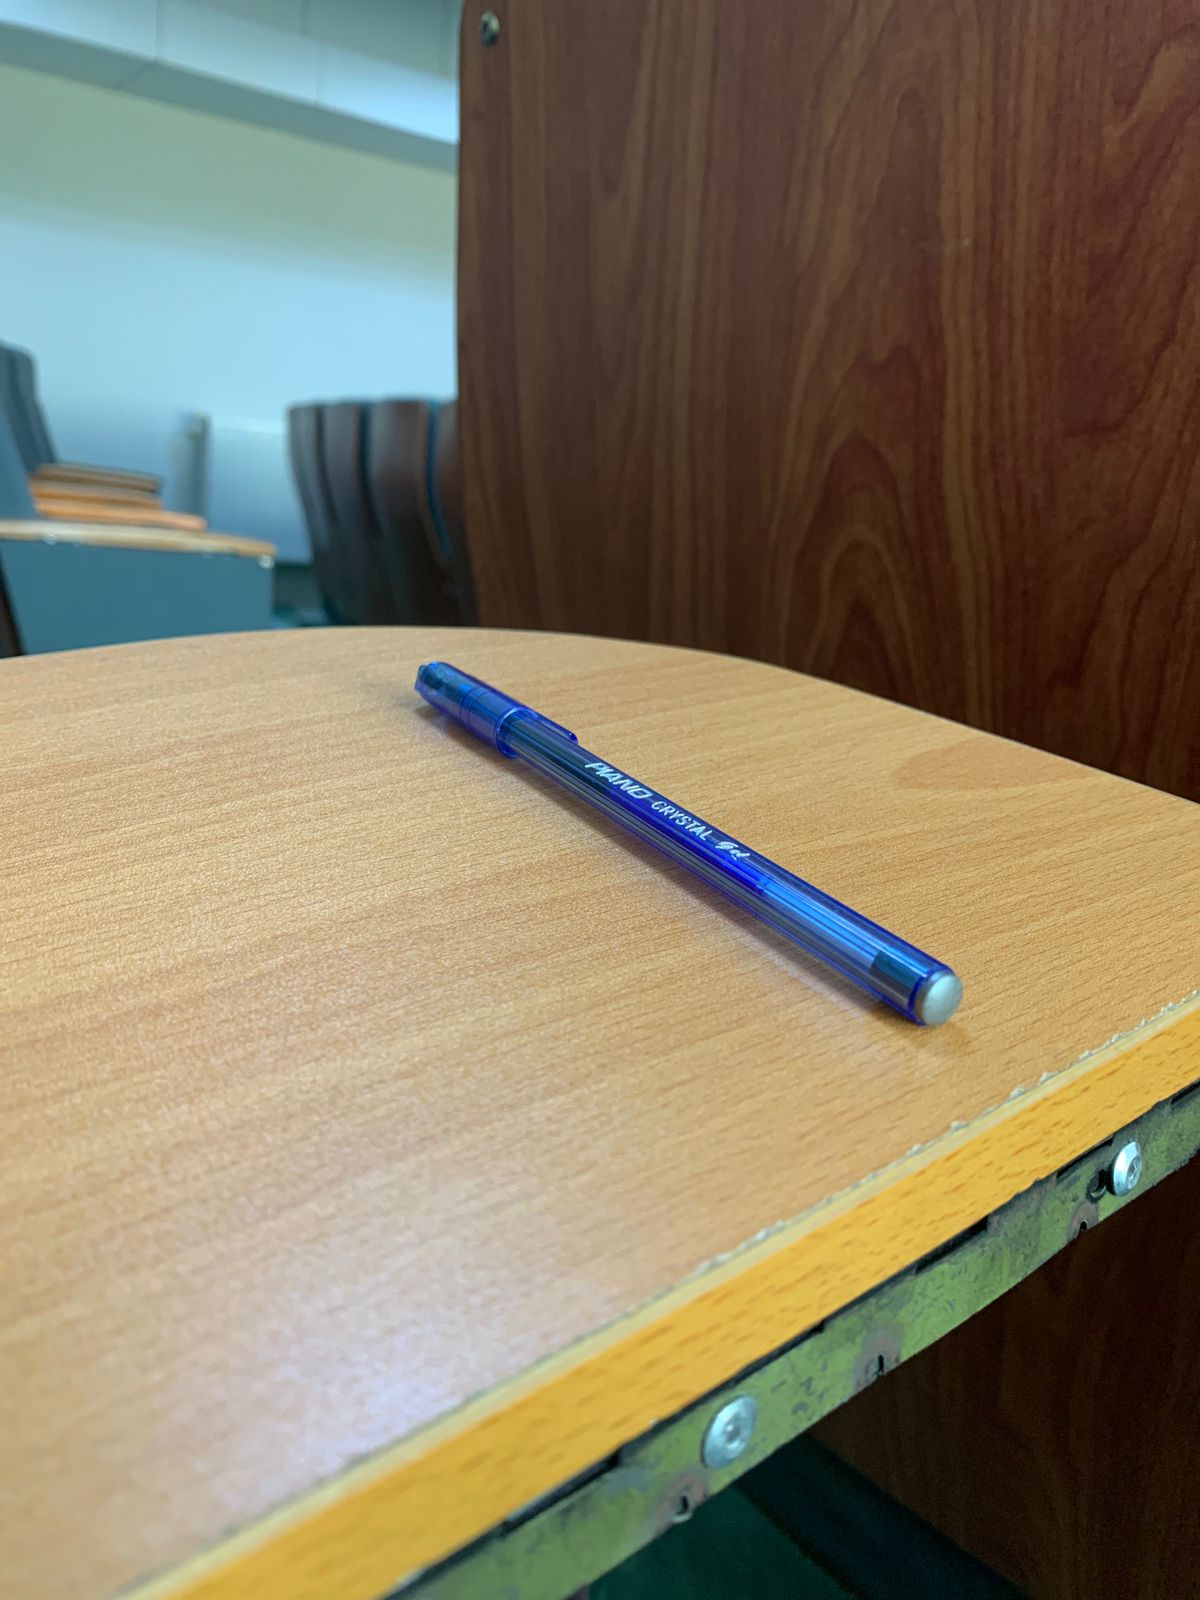pen: (284, 620, 1097, 1085)
